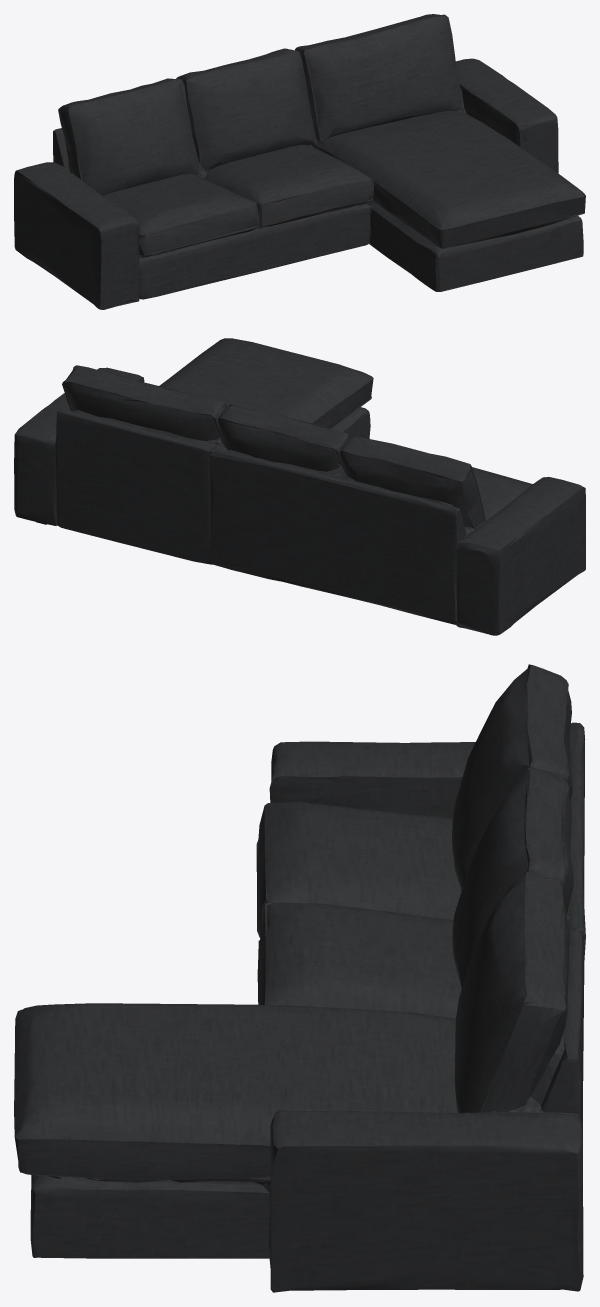
The model's file is kivik_sofa_with_chaise_tibbleby_beige_gr.glb.
3 views of the same model, one above another, from view 1: azimuth 30°, elevation 25°; view 2: azimuth 150°, elevation 25°; view 3: azimuth 270°, elevation 25° (orthographic). The views are drawn at different scales.
Parts seen in each view (by area): view 1: ProcessedMeshNode; view 2: ProcessedMeshNode; view 3: ProcessedMeshNode.
Boxes of the visible parts, x1=… form: ProcessedMeshNode: x1=14, y1=14, x2=585, y2=309; ProcessedMeshNode: x1=14, y1=338, x2=585, y2=635; ProcessedMeshNode: x1=14, y1=664, x2=585, y2=1292.
Bounding box in the file's own units: 2.79 × 0.8613 × 1.65.
Materials: 2 (2 with a texture image).
